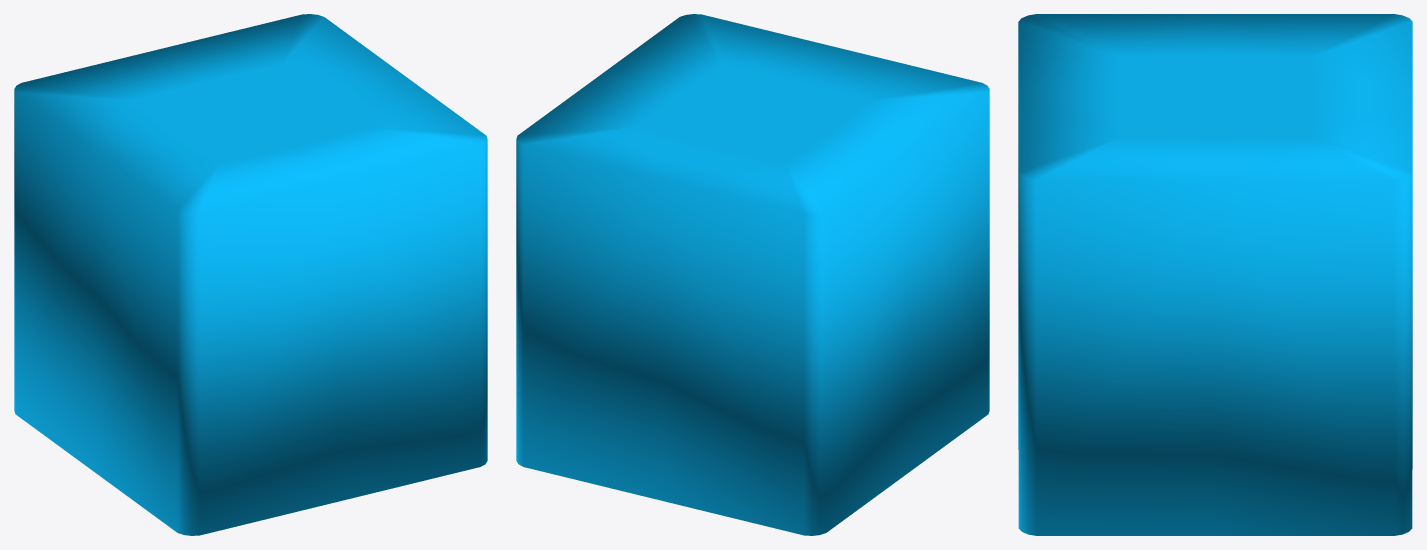
Rendered from mis_obj_OpenBlock_box.model 1.fbx.
3 renders of one model, left to right at view 1: azimuth 30°, elevation 25°; view 2: azimuth 150°, elevation 25°; view 3: azimuth 270°, elevation 25°, orthographic. The views are drawn at different scales.
Parts seen in each view (by area): view 1: mis_obj_OpenBlock_box; view 2: mis_obj_OpenBlock_box; view 3: mis_obj_OpenBlock_box.
Boxes of the visible parts, x1,y1,x2,y2 form: mis_obj_OpenBlock_box: (14, 14, 487, 535); mis_obj_OpenBlock_box: (516, 14, 989, 535); mis_obj_OpenBlock_box: (1018, 14, 1412, 535).
Size of the model in its own units: 2 by 1.99 by 2.
